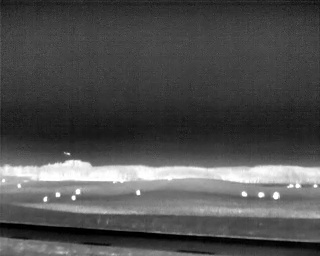AIRPLANE: (62, 149, 72, 158)
